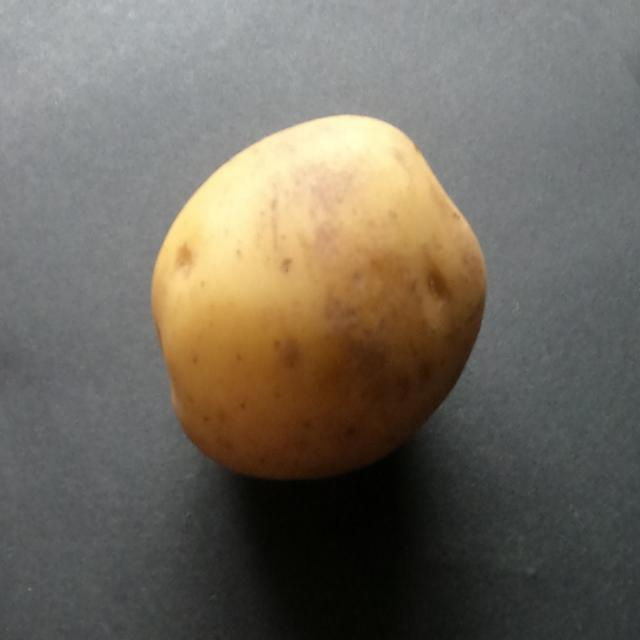Potato: (126, 65, 508, 549)
